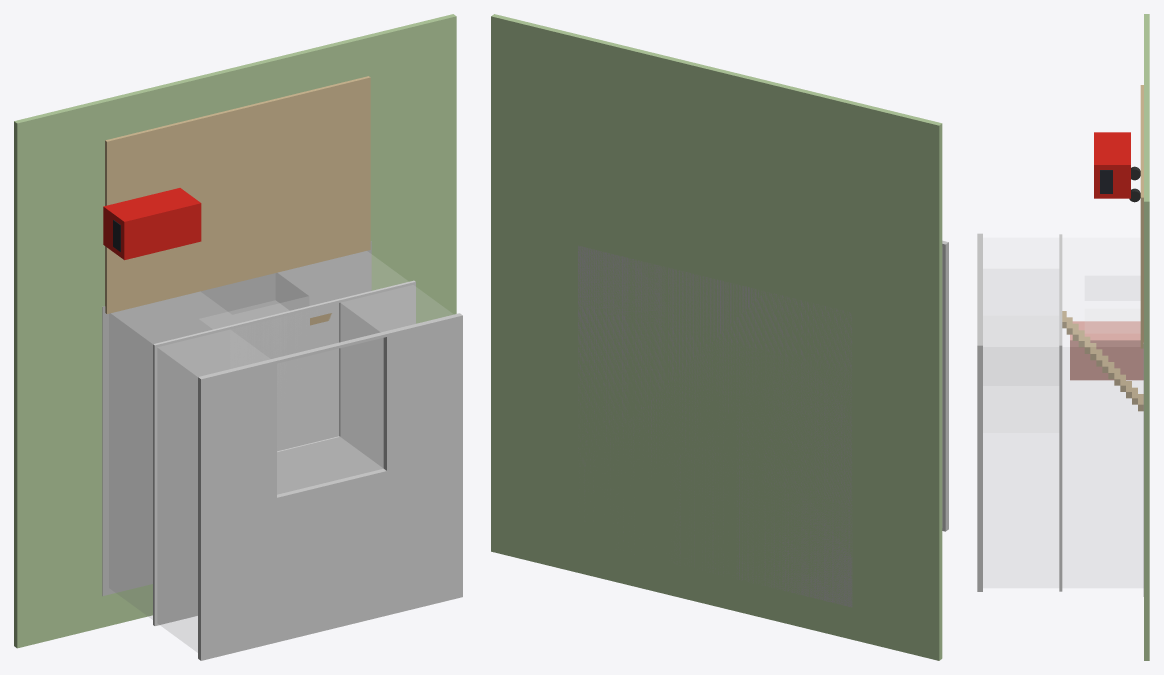
File: building.glb
3 renders of one model, left to right at view 1: azimuth 30°, elevation 25°; view 2: azimuth 150°, elevation 25°; view 3: azimuth 270°, elevation 25°, orthographic. The views are drawn at different scales.
Parts seen in each view (by area): view 1: 敷地(芝生), 屋根, テラスデッキ, 階間スラブ帯, 2F コの字, 基礎, 1F ボリューム, キッチンカー_車体; view 2: 敷地(芝生), 基礎, 屋根; view 3: 1F ボリューム, 2F コの字, 敷地(芝生), 大ぬいぐるみ, キッチンカー_車体, 屋根, 階段, 階間スラブ帯, テラスデッキ, キッチンカー_窓.
Part boxes in pixels (bbox=[...]): 敷地(芝生): bbox=[14, 14, 456, 648]; 屋根: bbox=[198, 313, 462, 660]; テラスデッキ: bbox=[105, 76, 370, 313]; 階間スラブ帯: bbox=[153, 280, 415, 625]; 2F コの字: bbox=[158, 285, 452, 652]; 基礎: bbox=[102, 241, 371, 596]; 1F ボリューム: bbox=[109, 251, 407, 619]; キッチンカー_車体: bbox=[103, 188, 201, 260]; 敷地(芝生): bbox=[491, 14, 942, 660]; 基礎: bbox=[578, 245, 852, 607]; 屋根: bbox=[942, 240, 948, 531]; 1F ボリューム: bbox=[1063, 238, 1142, 587]; 2F コの字: bbox=[983, 238, 1058, 587]; 敷地(芝生): bbox=[1144, 14, 1149, 660]; 大ぬいぐるみ: bbox=[1070, 321, 1143, 380]; キッチンカー_車体: bbox=[1094, 132, 1130, 198]; 屋根: bbox=[977, 233, 982, 591]; 階段: bbox=[1062, 311, 1143, 411]; 階間スラブ帯: bbox=[1059, 234, 1062, 591]; テラスデッキ: bbox=[1140, 85, 1143, 348]; キッチンカー_窓: bbox=[1100, 170, 1112, 193].
Bounding box in the file's own units: 24000 × 27400 × 9300.
